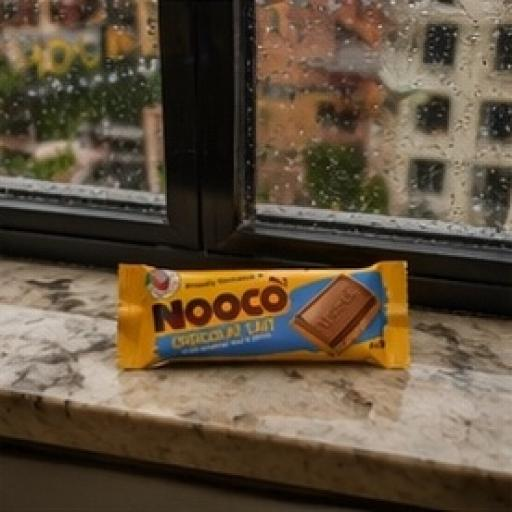biscuit-detection: (83, 190, 437, 424)
